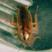cockroach: (14, 6, 33, 43)
